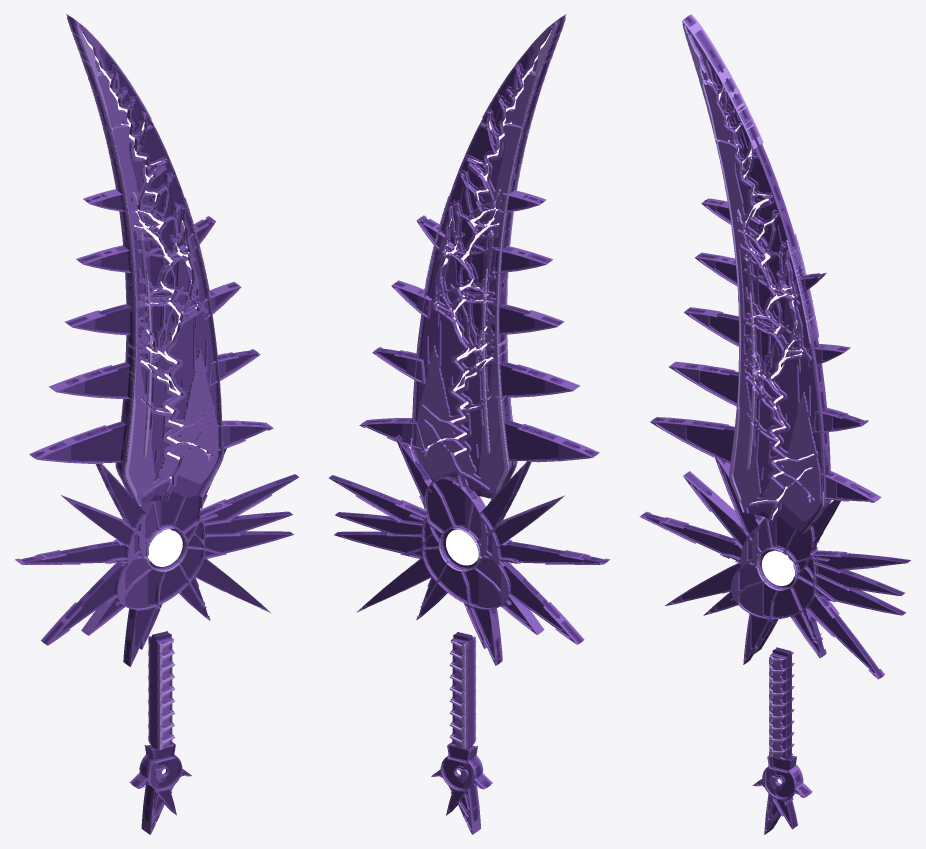
File: avarice.glb
3 views of the same model, side by side, from view 1: azimuth 30°, elevation 25°; view 2: azimuth 150°, elevation 25°; view 3: azimuth 330°, elevation 25° (orthographic). The views are drawn at different scales.
Visible parts, largest first — view 1: blade_plates1, blade_plates0, guard_base, guard_plates0, guard_plates1, finsU_base, blade_base, blade_plates2, finsU_plates1, finsU_plates0, blade_glow_face, finsL_plates1 (+9 smaller); view 2: blade_plates1, guard_base, blade_plates0, guard_plates0, guard_plates1, finsU_base, blade_plates2, blade_base, finsU_plates0, finsU_plates1, blade_glow_face, finsL_plates1 (+9 smaller); view 3: blade_plates1, blade_plates0, guard_base, guard_plates0, guard_plates1, blade_plates2, finsU_base, blade_base, finsU_plates1, finsU_plates0, blade_glow_face, finsL_plates0 (+10 smaller).
Boxes of the visible parts, bbox=[...] form: blade_plates1: bbox=[67, 15, 222, 505]; blade_plates0: bbox=[69, 16, 220, 503]; guard_base: bbox=[22, 449, 297, 664]; guard_plates0: bbox=[20, 448, 298, 665]; guard_plates1: bbox=[15, 461, 271, 666]; finsU_base: bbox=[32, 194, 130, 461]; blade_base: bbox=[70, 17, 218, 502]; blade_plates2: bbox=[66, 14, 223, 504]; finsU_plates1: bbox=[29, 189, 131, 463]; finsU_plates0: bbox=[30, 193, 131, 462]; blade_glow_face: bbox=[82, 33, 210, 482]; finsL_plates1: bbox=[188, 216, 273, 450]; blade_plates1: bbox=[412, 15, 565, 499]; guard_base: bbox=[330, 435, 607, 663]; blade_plates0: bbox=[413, 16, 563, 498]; guard_plates0: bbox=[328, 434, 608, 664]; guard_plates1: bbox=[355, 459, 610, 665]; finsU_base: bbox=[491, 195, 596, 459]; blade_plates2: bbox=[410, 14, 566, 499]; blade_base: bbox=[415, 17, 562, 496]; finsU_plates0: bbox=[489, 194, 598, 460]; finsU_plates1: bbox=[491, 190, 599, 462]; blade_glow_face: bbox=[427, 33, 550, 472]; finsL_plates1: bbox=[359, 215, 445, 450]; blade_plates1: bbox=[683, 15, 830, 533]; blade_plates0: bbox=[684, 16, 828, 532]; guard_base: bbox=[643, 459, 909, 677]; guard_plates0: bbox=[641, 463, 910, 678]; guard_plates1: bbox=[639, 453, 884, 679]; blade_plates2: bbox=[682, 14, 831, 533]; finsU_base: bbox=[656, 200, 738, 461]; blade_base: bbox=[686, 17, 828, 531]; finsU_plates1: bbox=[650, 198, 738, 457]; finsU_plates0: bbox=[651, 201, 738, 463]; blade_glow_face: bbox=[710, 82, 814, 519]; finsL_plates0: bbox=[801, 273, 875, 501].
Size of the model in its own units: 0.6954 by 1.99 by 0.0665.
